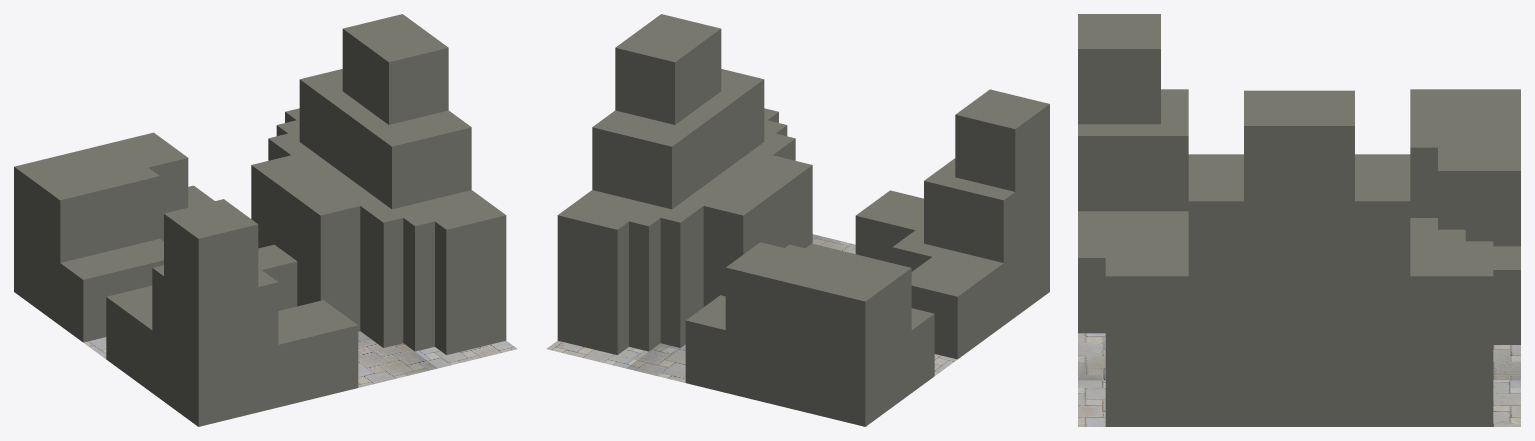
File: MyTile1_HF.fbx
3 views of the same model, side by side, from view 1: azimuth 30°, elevation 25°; view 2: azimuth 150°, elevation 25°; view 3: azimuth 270°, elevation 25° (orthographic). The views are drawn at different scales.
Visible parts, largest first — view 1: Tile1; view 2: Tile1; view 3: Tile1.
Boxes of the visible parts, bbox=[...] form: Tile1: bbox=[14, 14, 517, 426]; Tile1: bbox=[546, 14, 1049, 426]; Tile1: bbox=[1078, 14, 1520, 426].
Size of the model in its own units: 1600 by 1200 by 1600.
